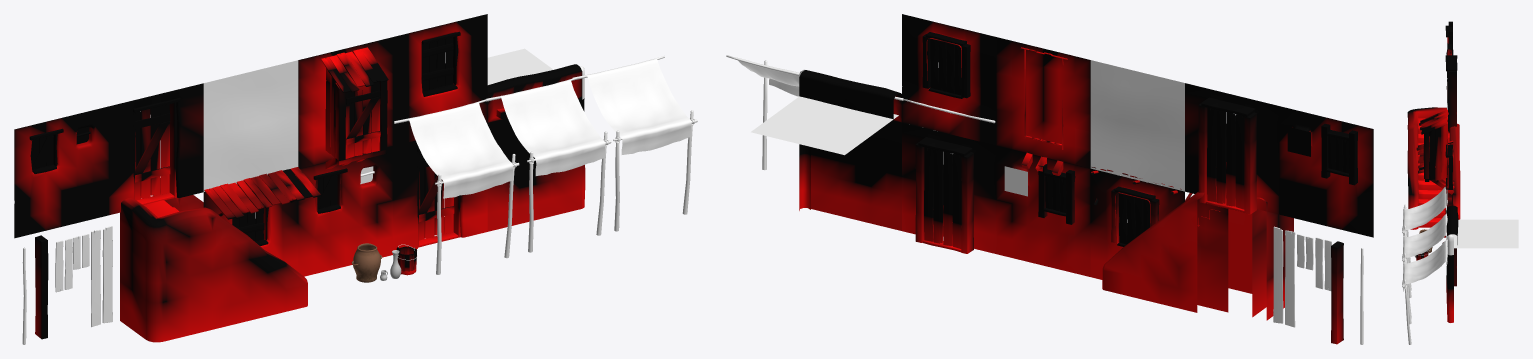
The model's file is desert_kit_1.0.fbx.
3 views of the same model, side by side, from view 1: azimuth 30°, elevation 25°; view 2: azimuth 150°, elevation 25°; view 3: azimuth 270°, elevation 25° (orthographic). The views are drawn at different scales.
Visible parts, largest first — view 1: door_second_floor, outbuilding, small_windows, wall, small_windows_ground, big_window, shed_cloth_c, shed_cloth_b, shed_cloth_a, door_ground, wall_ground, shed_wooden (+8 smaller); view 2: door_second_floor, outbuilding, door_ground, small_windows, wall, big_window, small_windows_ground, wall_ground, big_window_ground, roof, wall_topper, shed_cloth_c (+4 smaller); view 3: door_second_floor, roof, outbuilding, shed_cloth_c, shed_cloth_b, shed_cloth_a, corner, big_window, wall_topper, small_windows, shed_wooden, top_trim_pillar_CV_desert (+1 smaller).
Part boxes in pixels (x1=…): door_second_floor: x1=109, y1=83, x2=307, y2=342; outbuilding: x1=298, y1=37, x2=392, y2=169; small_windows: x1=14, y1=106, x2=109, y2=238; wall: x1=203, y1=60, x2=298, y2=191; small_windows_ground: x1=298, y1=146, x2=392, y2=276; big_window: x1=393, y1=14, x2=487, y2=145; shed_cloth_c: x1=572, y1=56, x2=697, y2=231; shed_cloth_b: x1=486, y1=77, x2=611, y2=252; shed_cloth_a: x1=394, y1=99, x2=519, y2=274; door_ground: x1=393, y1=123, x2=487, y2=250; wall_ground: x1=487, y1=100, x2=582, y2=231; shed_wooden: x1=204, y1=167, x2=321, y2=219; door_second_floor: x1=1102, y1=83, x2=1293, y2=320; outbuilding: x1=996, y1=37, x2=1090, y2=175; door_ground: x1=902, y1=122, x2=996, y2=253; small_windows: x1=1279, y1=106, x2=1373, y2=237; wall: x1=1090, y1=60, x2=1184, y2=191; big_window: x1=902, y1=14, x2=996, y2=145; small_windows_ground: x1=996, y1=145, x2=1090, y2=276; wall_ground: x1=811, y1=120, x2=902, y2=230; big_window_ground: x1=1090, y1=168, x2=1184, y2=279; roof: x1=751, y1=96, x2=898, y2=155; wall_topper: x1=799, y1=70, x2=901, y2=128; shed_cloth_c: x1=726, y1=55, x2=799, y2=170; door_second_floor: x1=1407, y1=55, x2=1460, y2=229; roof: x1=1451, y1=219, x2=1518, y2=248; outbuilding: x1=1419, y1=109, x2=1454, y2=194; shed_cloth_c: x1=1402, y1=236, x2=1447, y2=344; shed_cloth_b: x1=1402, y1=210, x2=1447, y2=318; shed_cloth_a: x1=1402, y1=187, x2=1447, y2=290; corner: x1=1447, y1=254, x2=1453, y2=322; big_window: x1=1445, y1=139, x2=1453, y2=208; wall_topper: x1=1442, y1=205, x2=1458, y2=244; small_windows: x1=1445, y1=21, x2=1453, y2=55; shed_wooden: x1=1416, y1=140, x2=1453, y2=173; top_trim_pillar_CV_desert: x1=1447, y1=234, x2=1453, y2=255.
Bounding box in the file's own units: 1373 × 442 × 343.
